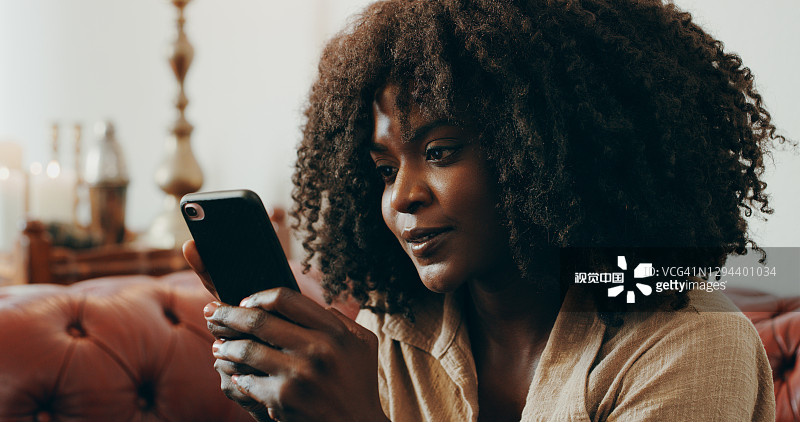reading: (154, 177, 395, 422)
